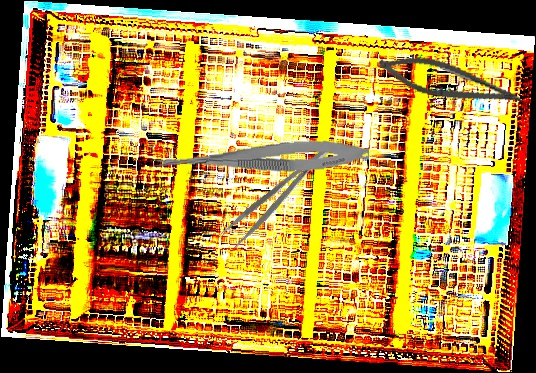Dressing Forceps: (217, 141, 342, 252)
Micro Scissor: (148, 136, 370, 183), (374, 49, 529, 113)
